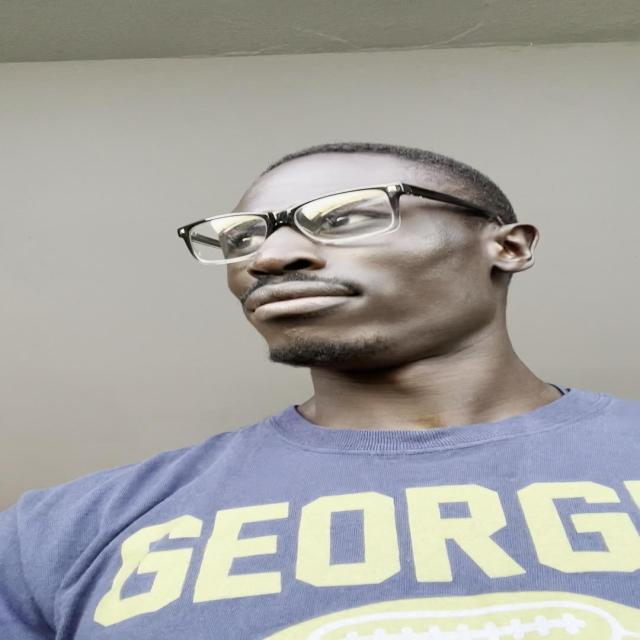NO-Mask: (210, 149, 516, 369)
